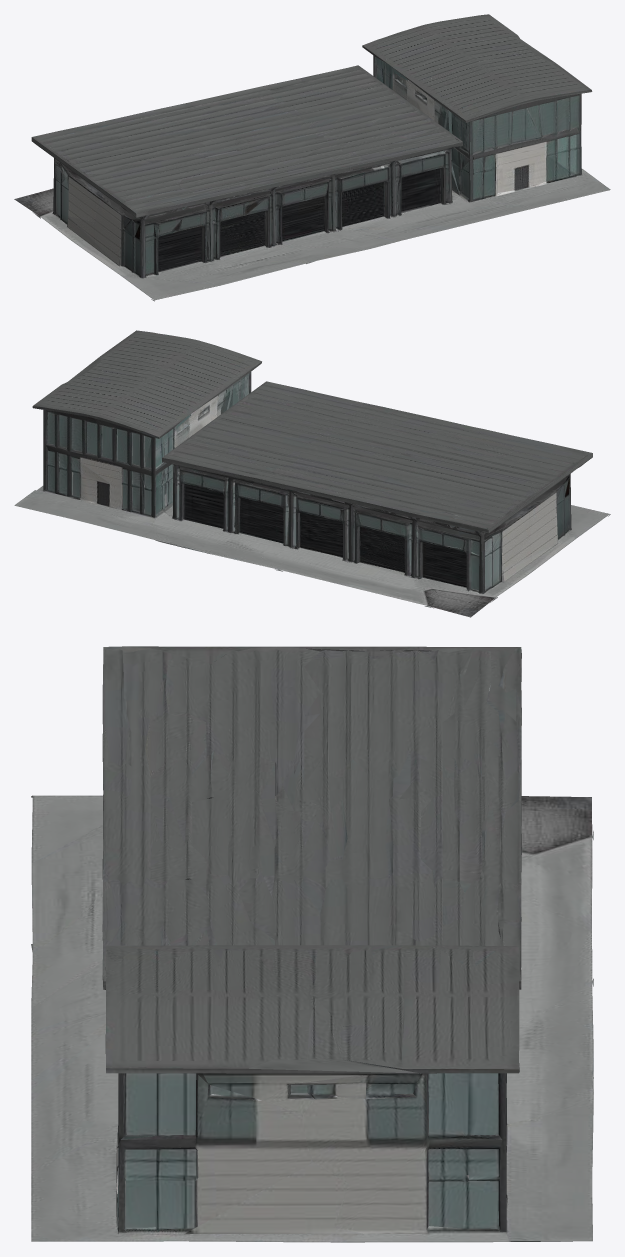
File: pit_building.glb
3 renders of one model, top to bottom at view 1: azimuth 30°, elevation 25°; view 2: azimuth 150°, elevation 25°; view 3: azimuth 270°, elevation 25°, orthographic. The views are drawn at different scales.
Size of the model in its own units: 1.9 by 0.3676 by 1.01.
Materials: 1 (1 with a texture image).
